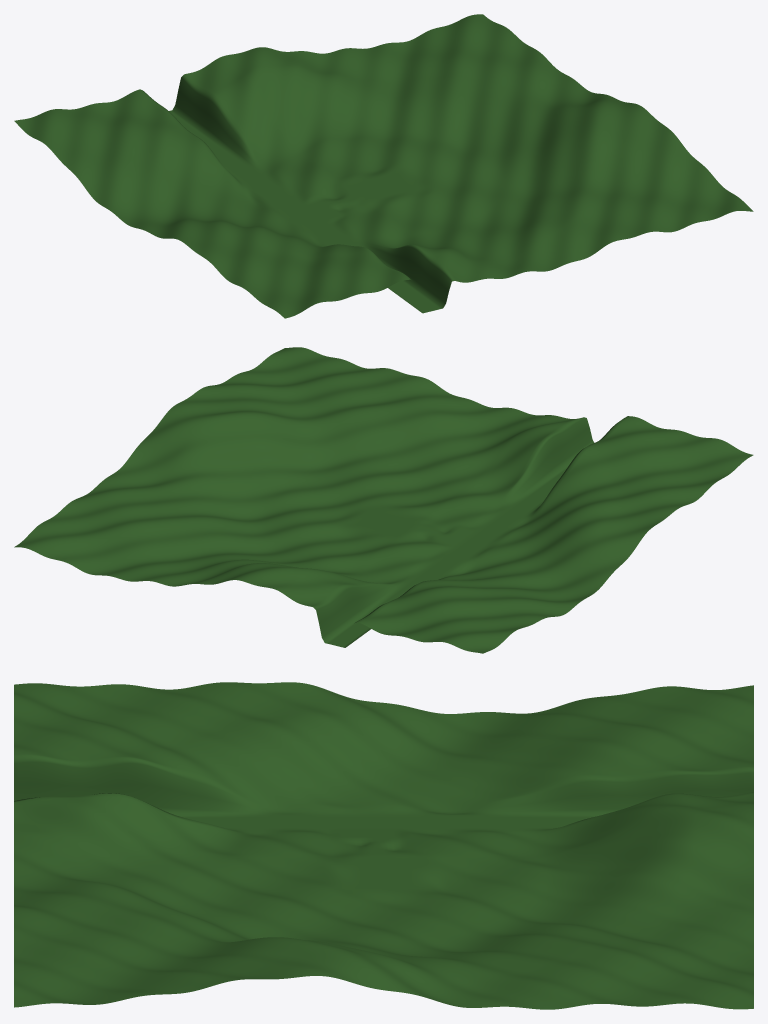
Rendered from ground.glb.
3 views of the same model, one above another, from view 1: azimuth 30°, elevation 25°; view 2: azimuth 150°, elevation 25°; view 3: azimuth 270°, elevation 25° (orthographic). The views are drawn at different scales.
Visible parts, largest first — view 1: ground; view 2: ground; view 3: ground.
Boxes of the visible parts, left/top/right/bottom form: ground: left=14, top=14, right=753, bottom=318; ground: left=14, top=347, right=753, bottom=653; ground: left=14, top=682, right=753, bottom=1009.
Bounding box in the file's own units: 640 × 62.66 × 640.
